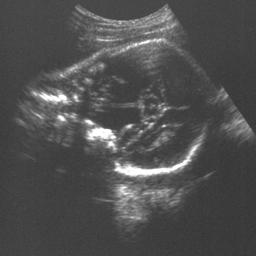abnormal: (75, 38, 218, 181)
